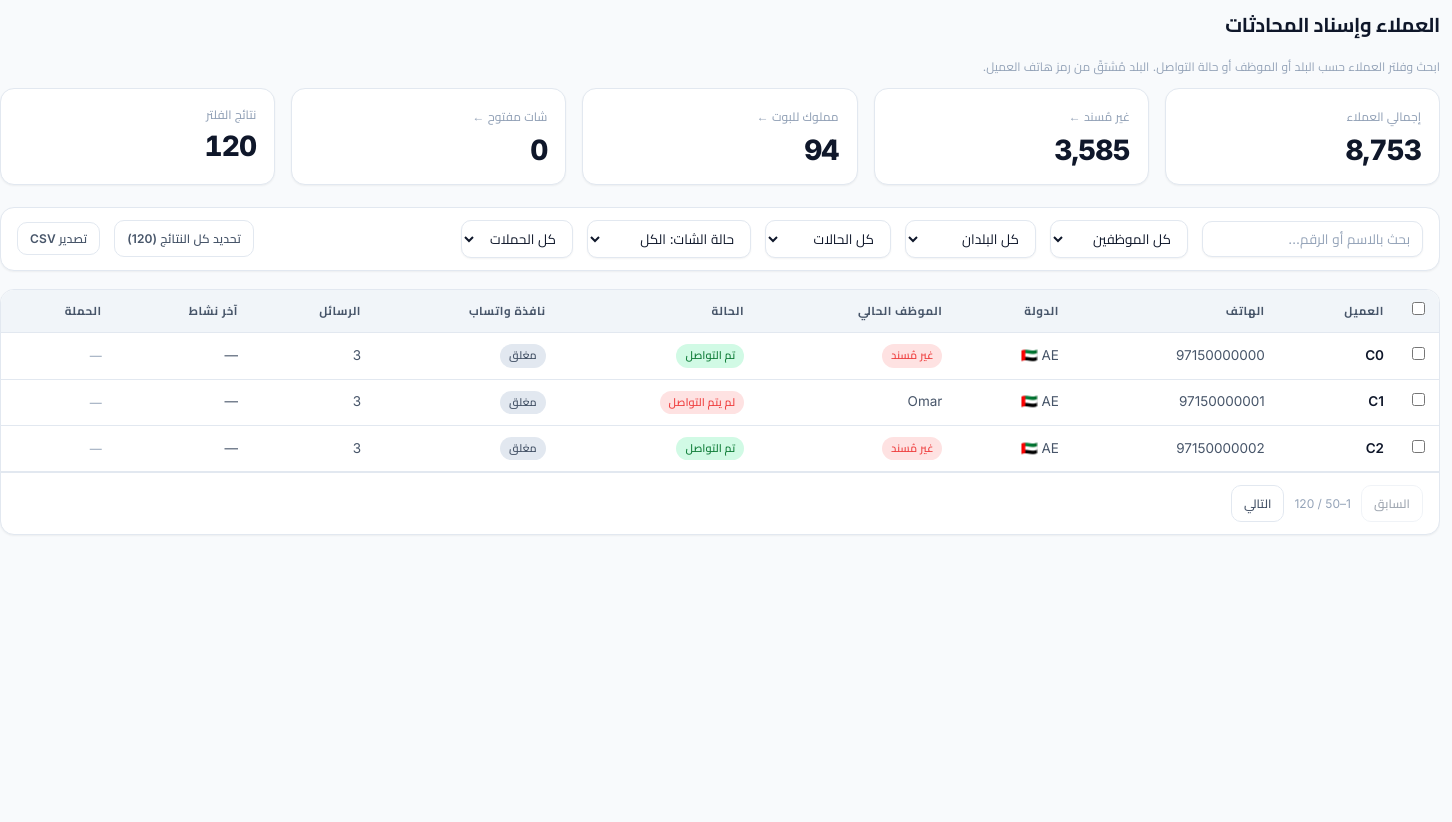
Test: selection › resets the selection when a filter changes (never act on hidden rows)
Click the checkbox named "C0": [1418, 354] box [1412, 347, 1425, 360]
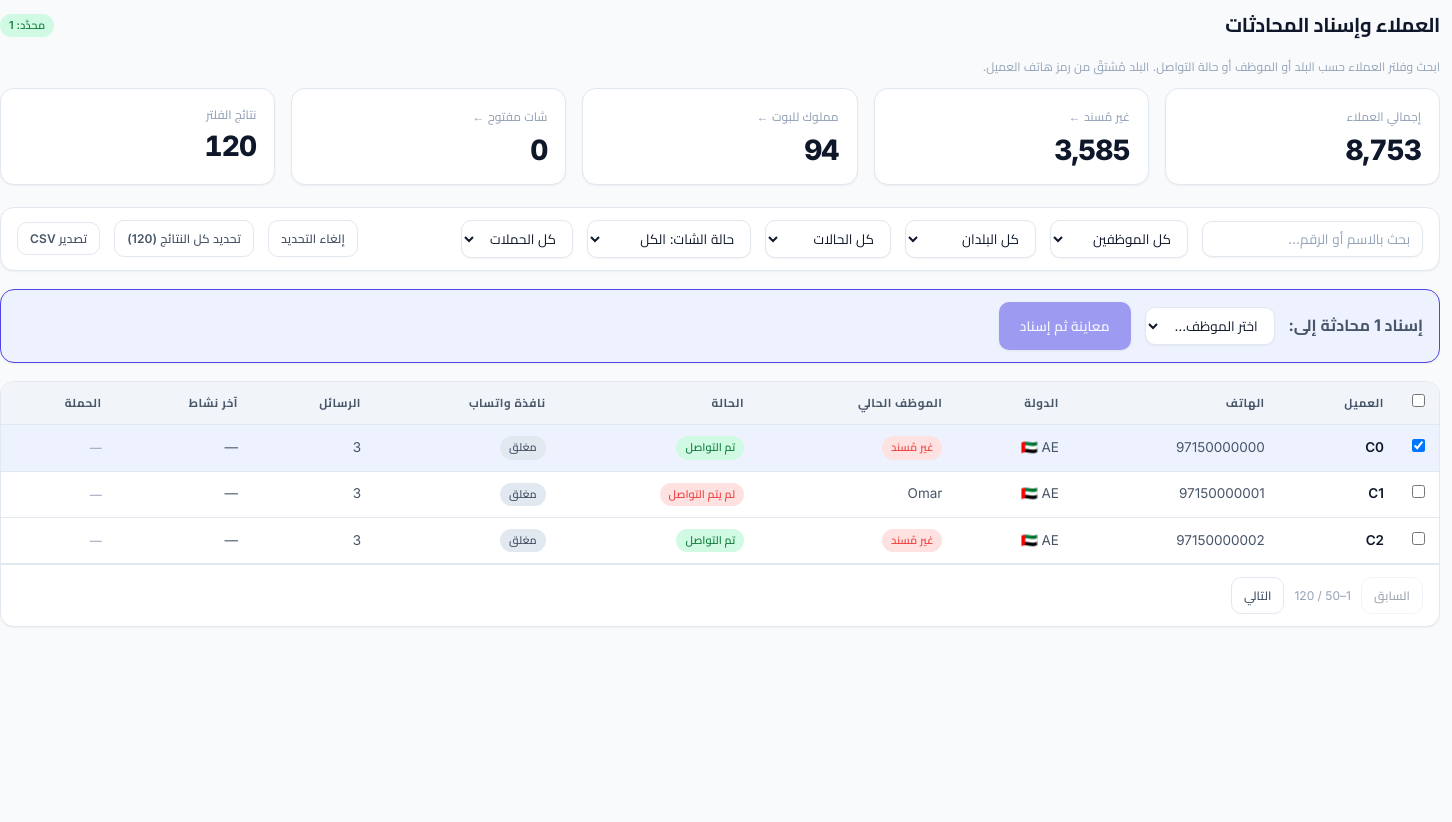
expect the text "محدَّد: 1" is shown: met, box [0, 14, 54, 37]
Select "غير مُسند فقط" in the 5th dropdown: [1119, 239] box [1050, 220, 1188, 258]
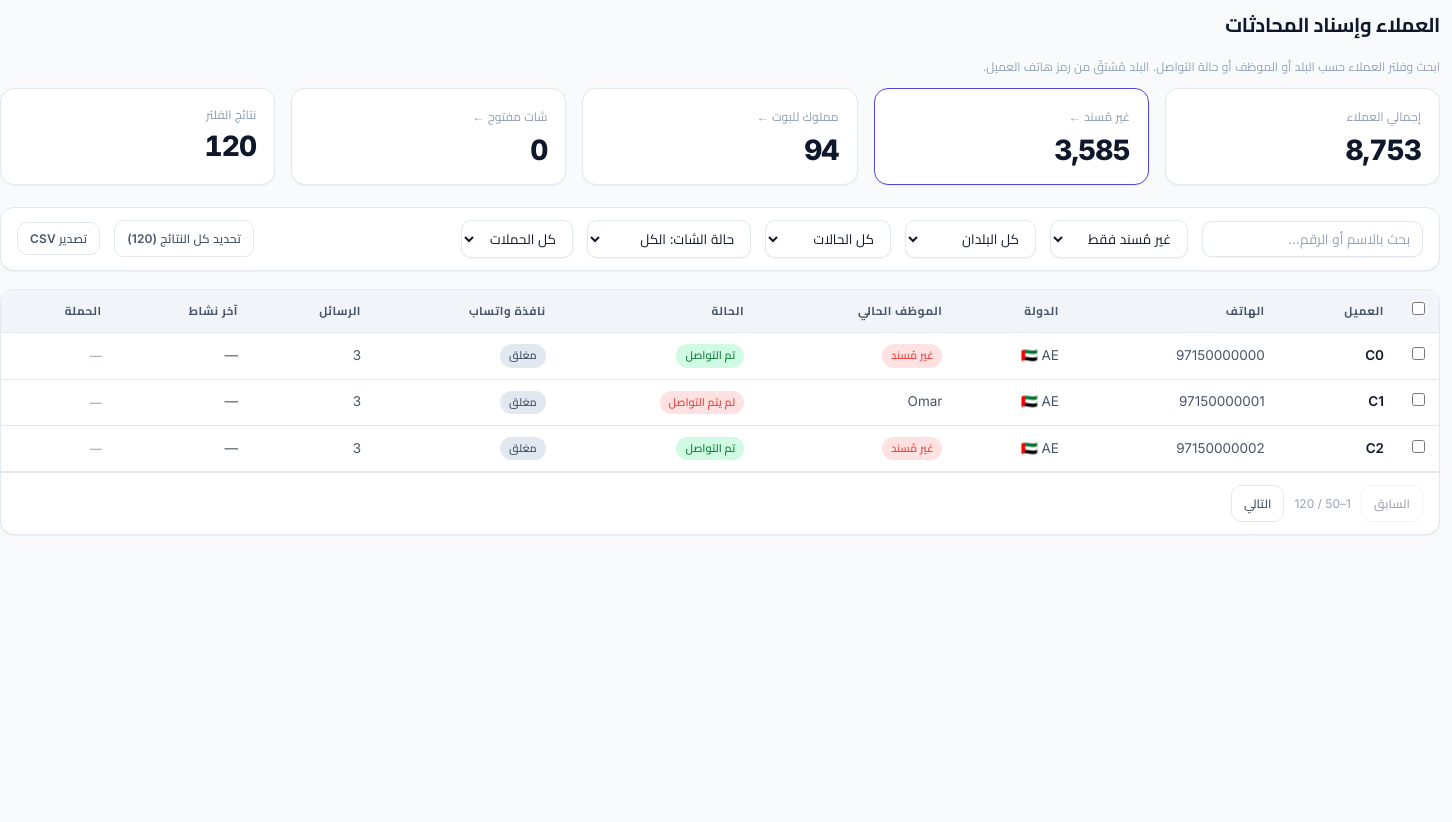
expect the text "محدَّد" is gone: met
